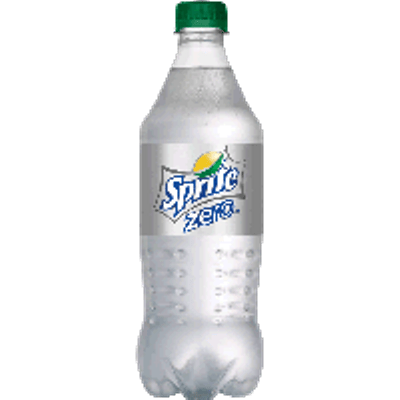sprite: (160, 160, 236, 213)
